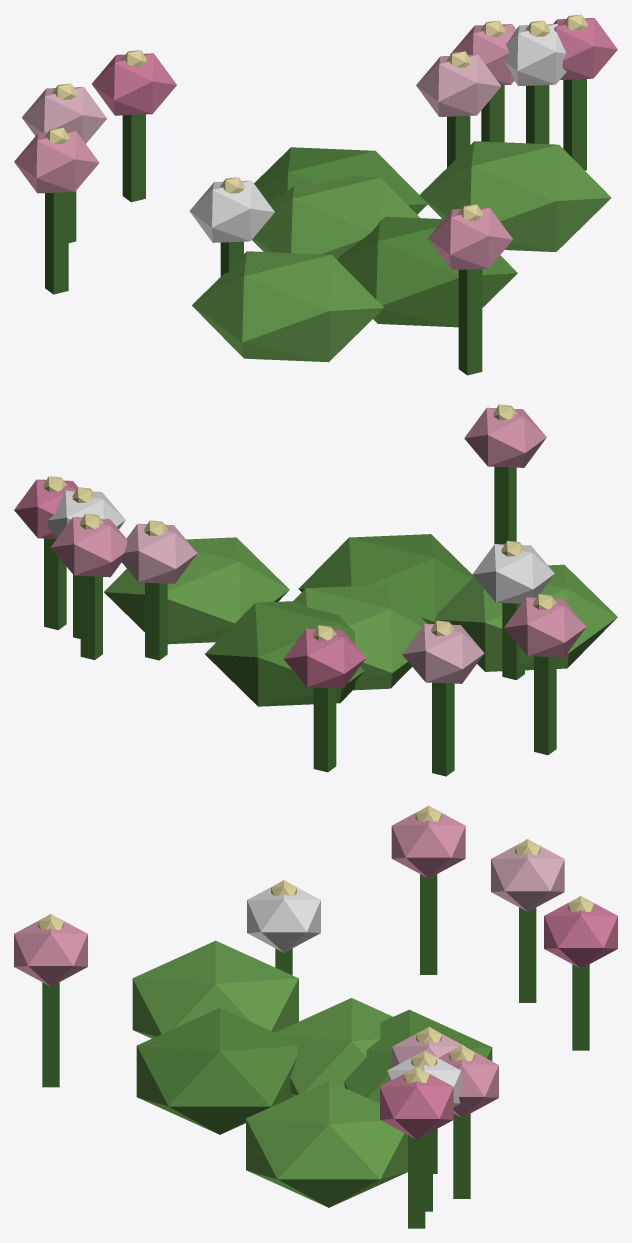
Rendered from c-blooms-pink.glb.
The picture shows the model from 3 angles, top to bottom: view 1: azimuth 30°, elevation 25°; view 2: azimuth 150°, elevation 25°; view 3: azimuth 270°, elevation 25°; orthographic projection. The views are drawn at different scales.
Parts seen in each view (by area): view 1: c-blooms-pink; view 2: c-blooms-pink; view 3: c-blooms-pink.
Part boxes in pixels (x1,y1,x2,y2): c-blooms-pink: [14, 14, 617, 375]; c-blooms-pink: [14, 404, 617, 776]; c-blooms-pink: [14, 805, 617, 1228].
Size of the model in its own units: 0.6207 by 0.182 by 0.5564.
